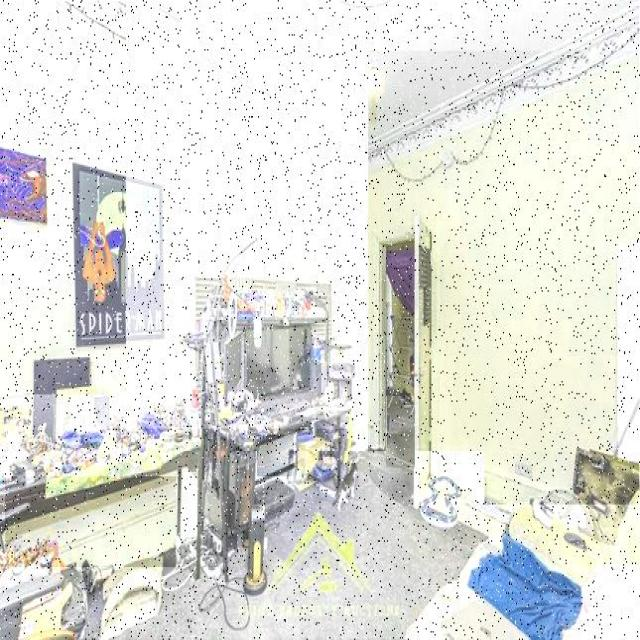Wall: (369, 52, 639, 505), (71, 23, 368, 429), (159, 0, 639, 156), (124, 451, 484, 639), (0, 2, 126, 394), (5, 476, 176, 567), (397, 125, 489, 176), (618, 246, 640, 427), (387, 396, 415, 467), (257, 436, 294, 476), (619, 405, 639, 461), (184, 473, 197, 537), (229, 596, 245, 625), (231, 549, 247, 577)
